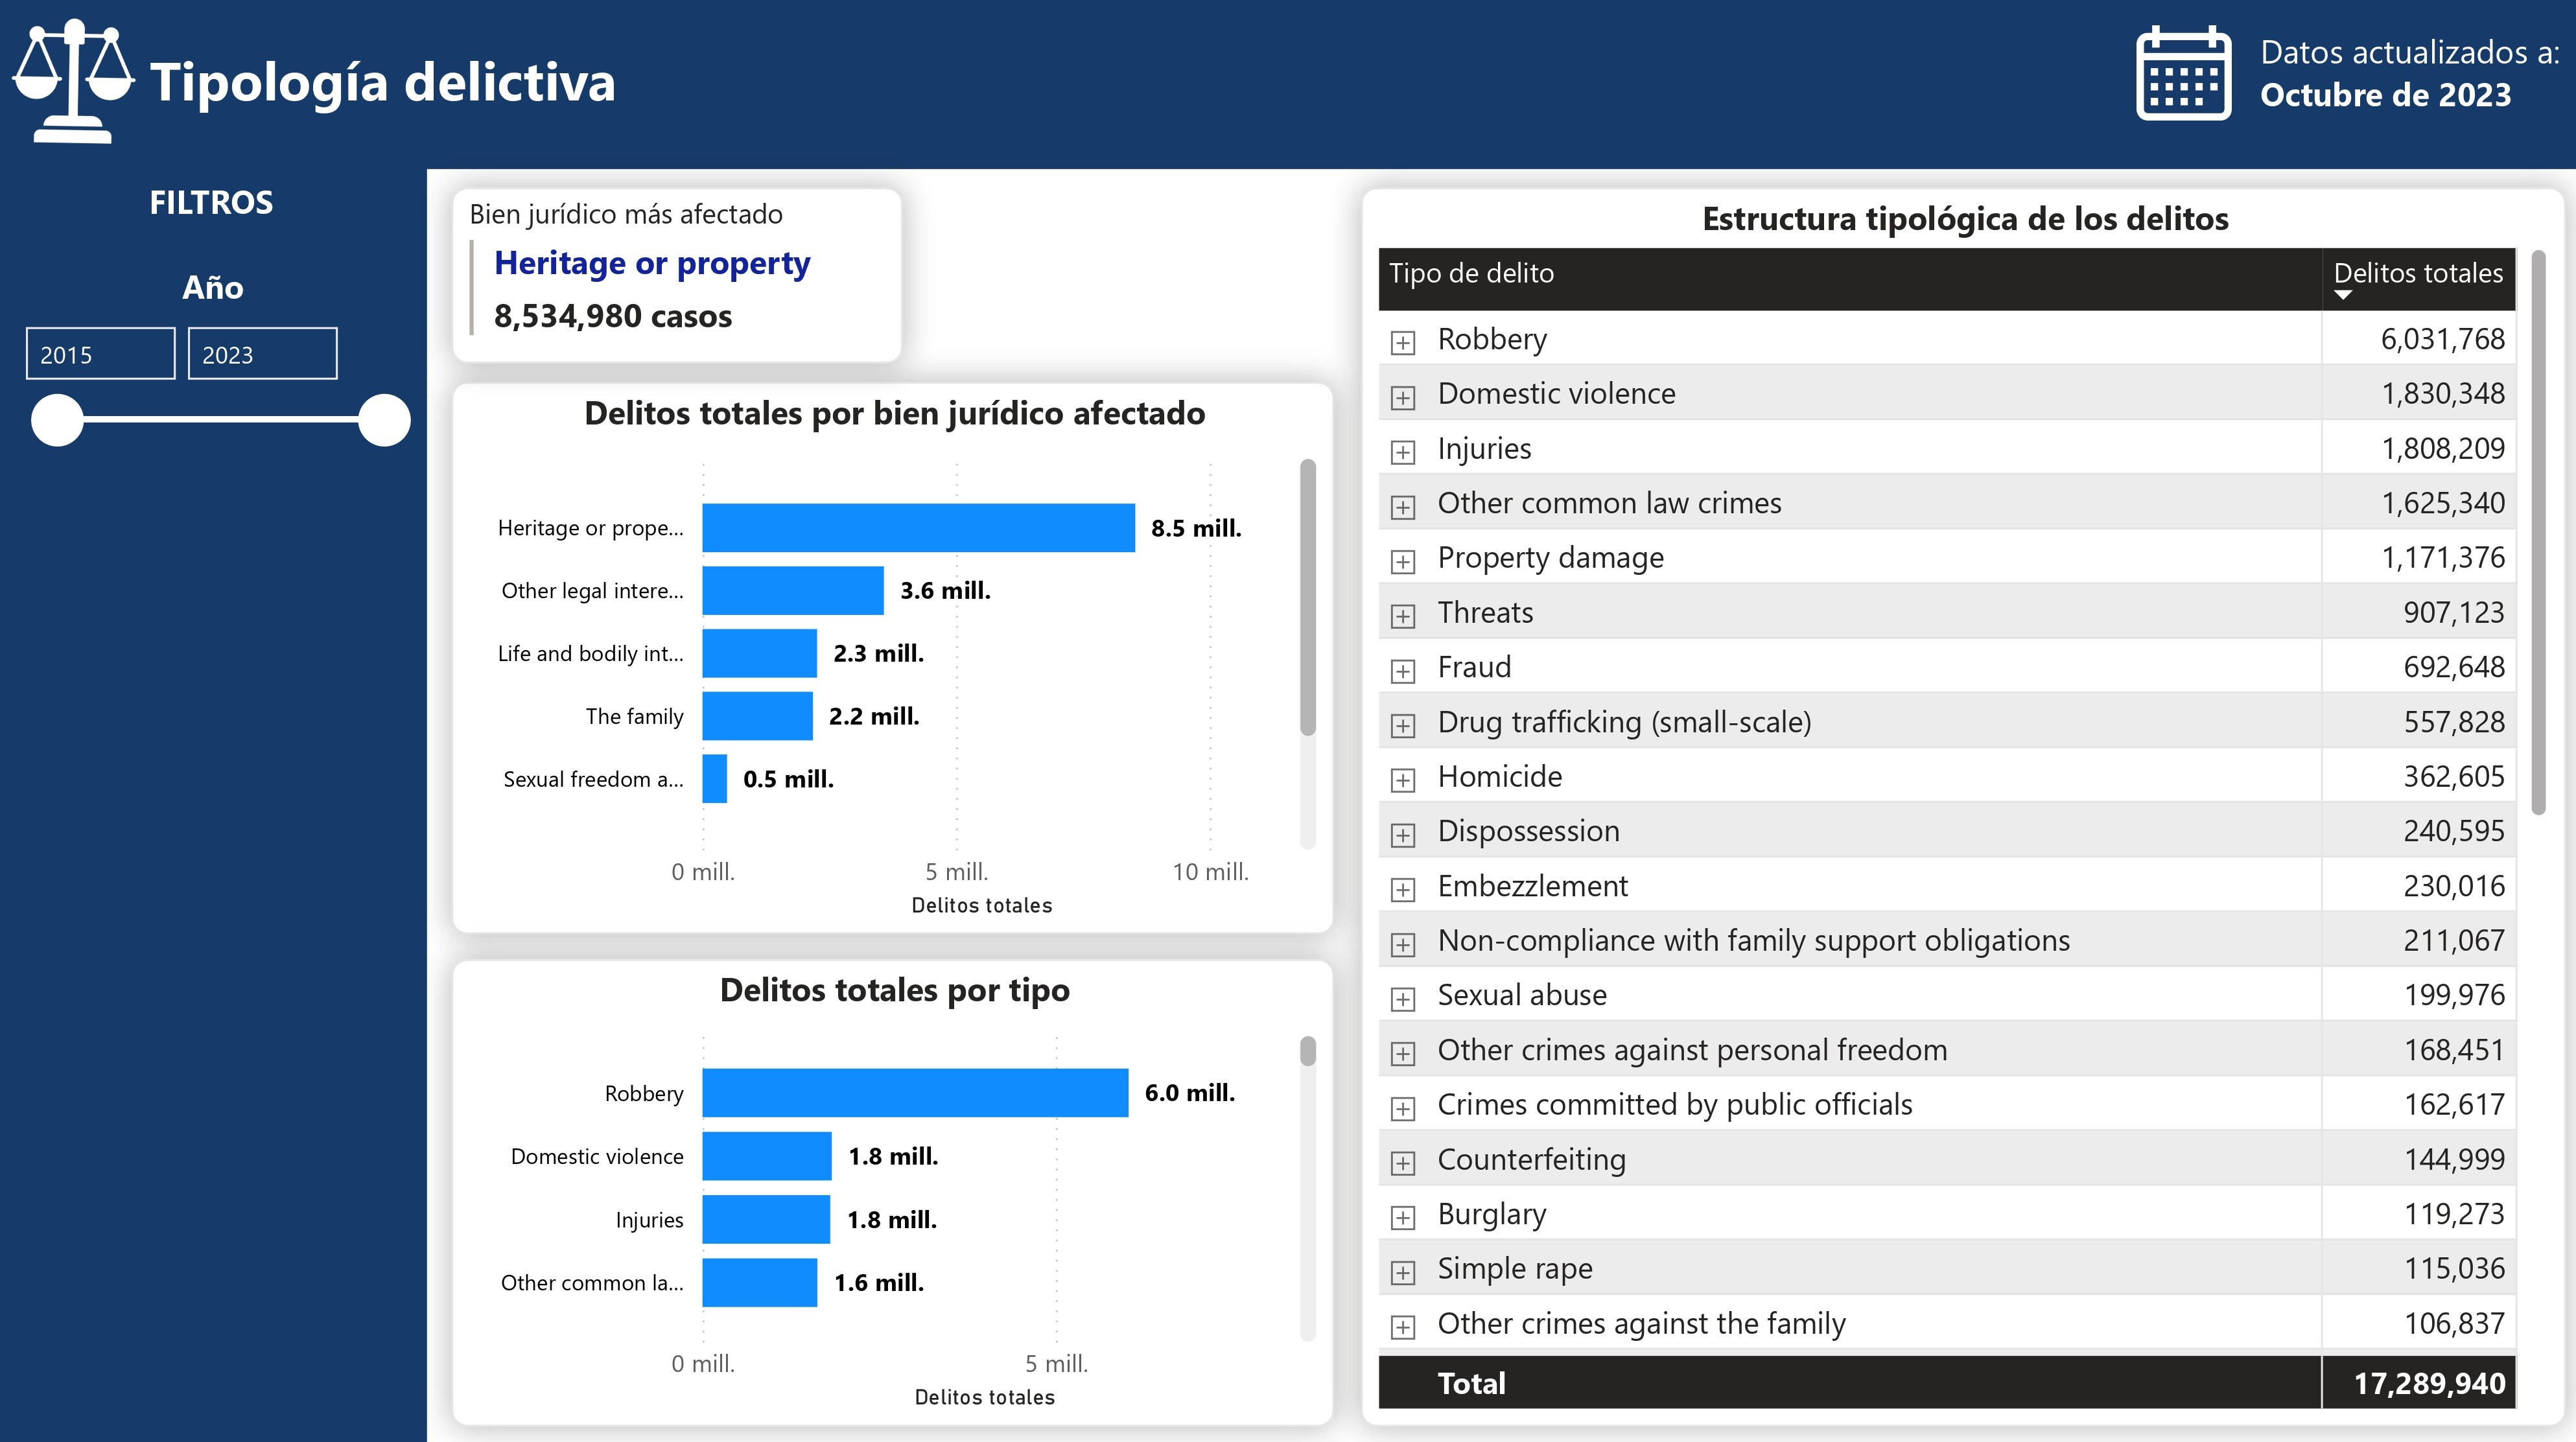

This screenshot's page, from the dashboard's own definition file:
{"tool":"powerbi","page":{"name":"Tipología delictiva","canvas":[1280,720],"ordinal":2},"visuals":[{"type":"clusteredBarChart","title":"Delitos totales por bien jurídico afectado","fields":{"Category":["dim_delito.bien_juridico_afectado"],"Y":["Medidas.Total delitos"]},"box":[226.1,191.5,436.3,273.6],"z":0},{"type":"clusteredBarChart","title":"Delitos totales por tipo","fields":{"Y":["Medidas.Total delitos"],"Category":["dim_delito.tipo_delito"]},"box":[226.1,476.6,436.3,231.8],"z":1000},{"type":"pivotTable","title":"Estructura tipológica de los delitos","fields":{"Rows":["dim_delito.tipo_delito","dim_delito.subtipo_delito","dim_delito.modalidad"],"Values":["Medidas.Total delitos"]},"box":[675.4,96.5,594.7,612],"z":2000},{"type":"shape","box":[0,43.3,214.2,674.2],"z":3000},{"type":"shape","box":[0,0,1280,86.5],"z":4000},{"type":"slicer","title":"Año","fields":{"Values":["dim_fecha.anio"]},"box":[3.3,134.4,211.1,113.3],"z":5000},{"type":"textbox","box":[1114.4,13,165.6,60.5],"z":6000},{"type":"textbox","box":[71.1,86.7,73.3,33.3],"z":7000},{"type":"image","box":[1057.5,15.8,47.5,47.5],"z":8000},{"type":"image","box":[5.8,11.5,67.7,63.4],"z":9000},{"type":"textbox","box":[72,18.7,262.1,49],"z":10000},{"type":"multiRowCard","title":"Bien jurídico más afectado","fields":{"Values":["Medidas.Bien jurídico afectado más frecuente","Medidas.Casos del bien jurídico afectado más frecuente"]},"box":[226.1,96.5,223.2,86.4],"z":11000}]}

Visuals, with their boxes in screenshot pixels (x1, y1, x2, y2), scaled from the page's 1280x720 canvas onto the 2576x1442 screenshot:
"Delitos totales por bien jurídico afectado" clusteredBarChart: (x1=455, y1=384, x2=1333, y2=931)
"Delitos totales por tipo" clusteredBarChart: (x1=455, y1=955, x2=1333, y2=1419)
"Estructura tipológica de los delitos" pivotTable: (x1=1359, y1=193, x2=2556, y2=1419)
shape: (x1=0, y1=87, x2=431, y2=1437)
shape: (x1=0, y1=0, x2=2575, y2=173)
"Año" slicer: (x1=6, y1=269, x2=432, y2=496)
textbox: (x1=2243, y1=26, x2=2575, y2=147)
textbox: (x1=143, y1=174, x2=290, y2=240)
image: (x1=2128, y1=32, x2=2224, y2=127)
image: (x1=12, y1=23, x2=148, y2=150)
textbox: (x1=145, y1=38, x2=672, y2=135)
"Bien jurídico más afectado" multiRowCard: (x1=455, y1=193, x2=904, y2=366)
